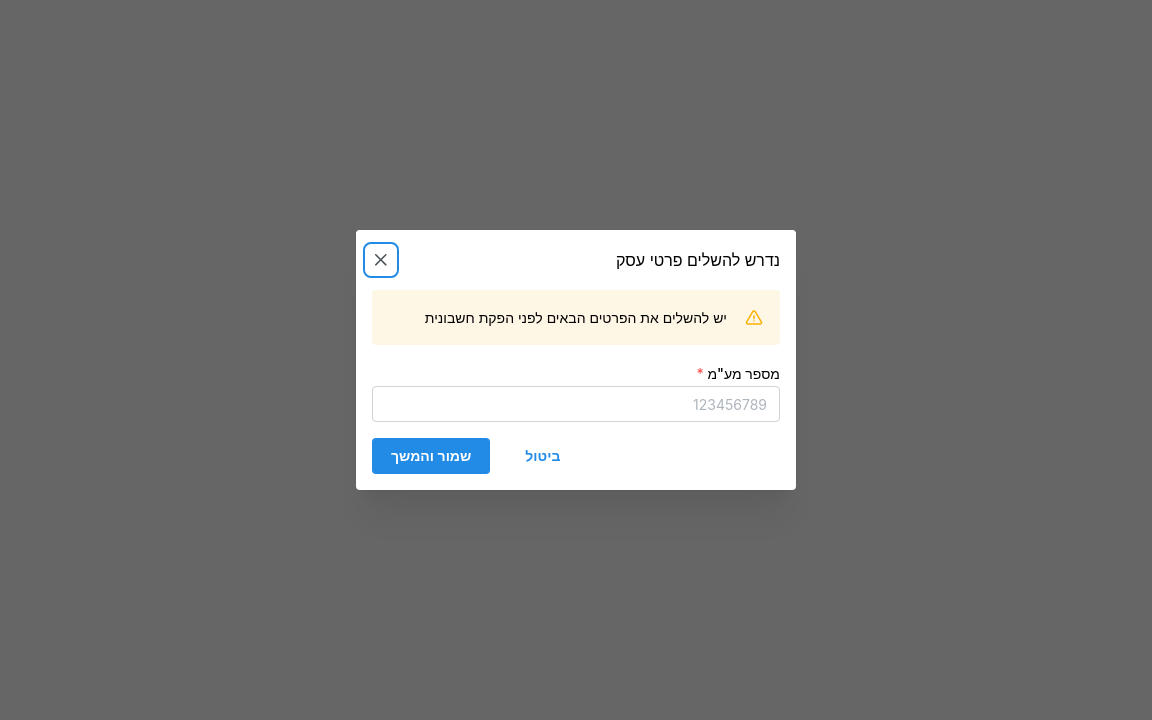
BusinessProfileGateModal › shows vatNumber validation error for wrong format
Type "123" into the field labelled "מספר מע\"מ *" at (576, 404), box [372,386,780,422]
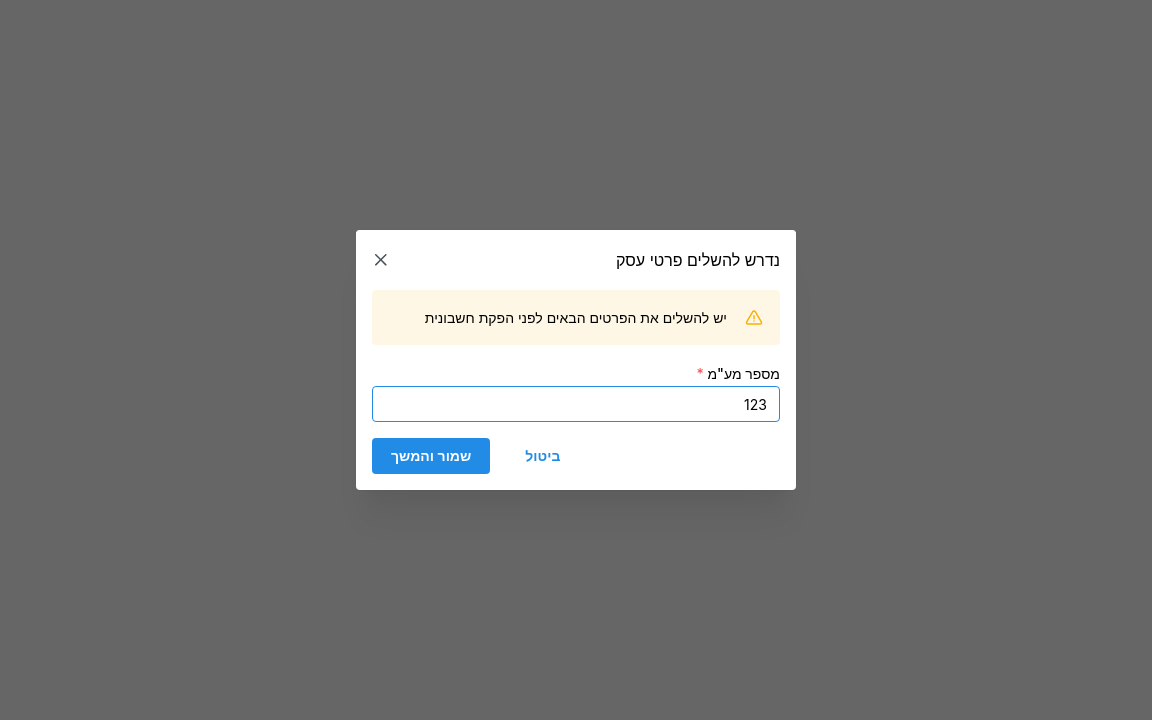
Click the button "שמור והמשך" at (431, 456), box [372,438,490,474]
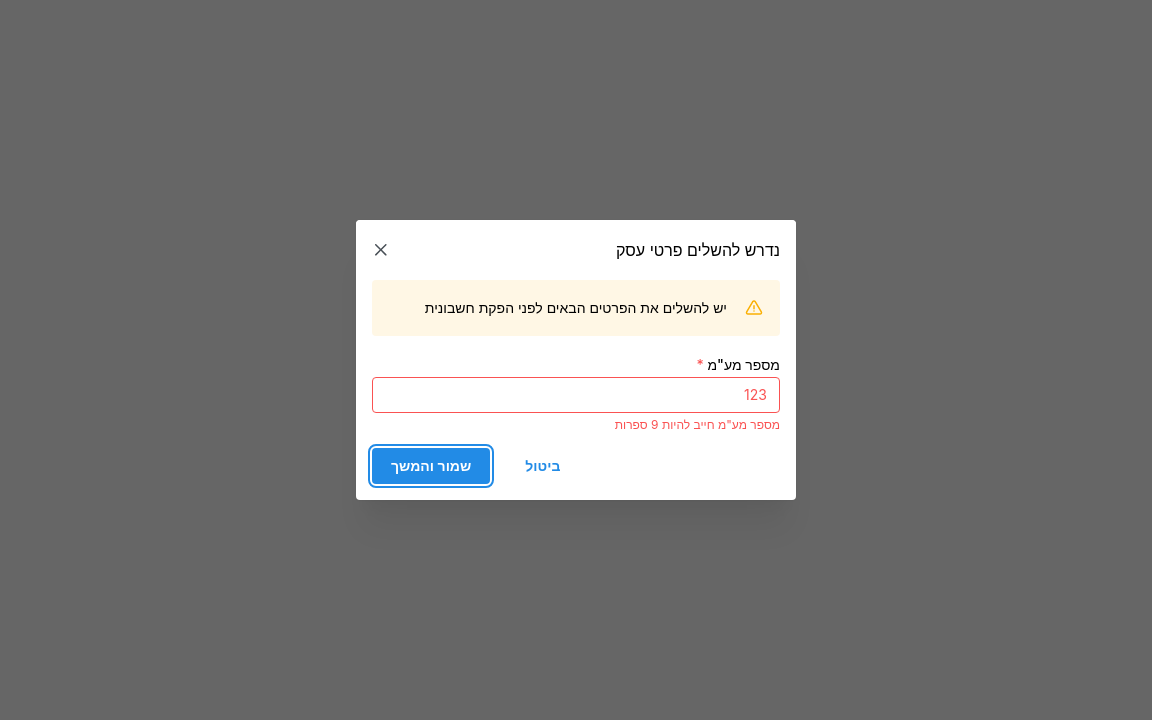
expect the text "מספר מע\"מ חייב להיות 9 ספרות" is shown: met, box [615,416,780,432]
